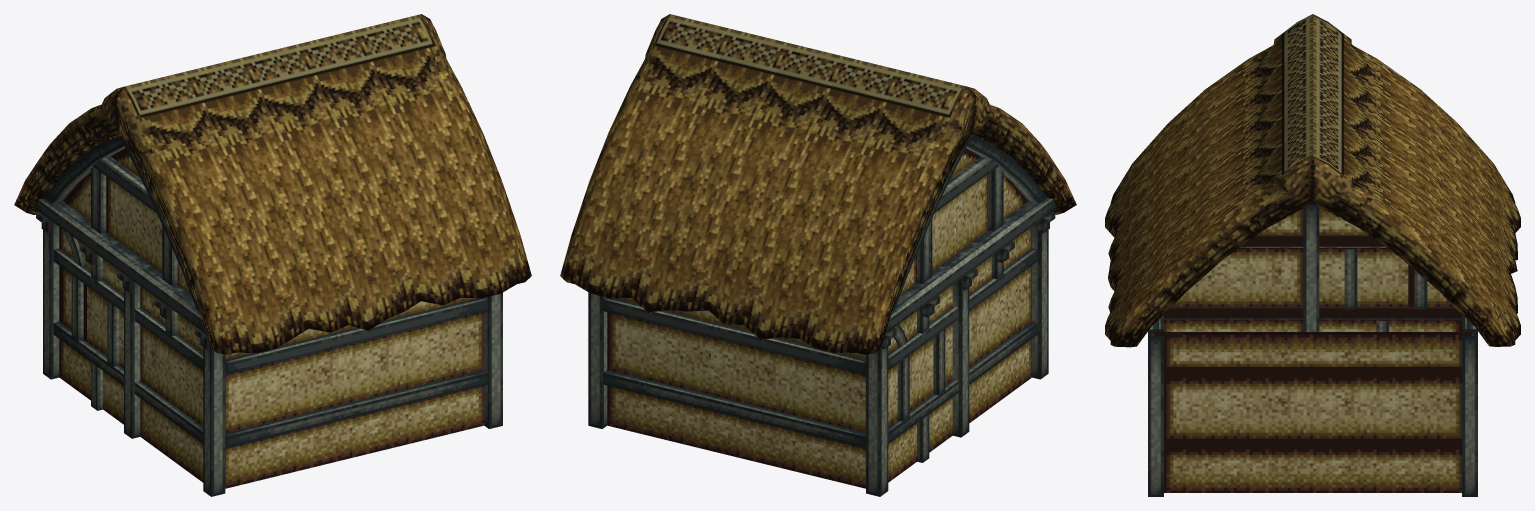
File: EnvBdgMD_Forest_A_Outdoor_House_F.FBX
The picture shows the model from 3 angles, left to right: view 1: azimuth 30°, elevation 25°; view 2: azimuth 150°, elevation 25°; view 3: azimuth 270°, elevation 25°; orthographic projection. The views are drawn at different scales.
Visible parts, largest first — view 1: EnvBdgMD_Forest_A_Outdoor_House_F; view 2: EnvBdgMD_Forest_A_Outdoor_House_F; view 3: EnvBdgMD_Forest_A_Outdoor_House_F.
Boxes of the visible parts, box(x1,y1,x2,y2) form: EnvBdgMD_Forest_A_Outdoor_House_F: box(14, 14, 531, 496); EnvBdgMD_Forest_A_Outdoor_House_F: box(560, 14, 1076, 496); EnvBdgMD_Forest_A_Outdoor_House_F: box(1105, 14, 1520, 496).
Size of the model in its own units: 563 by 595 by 655.
